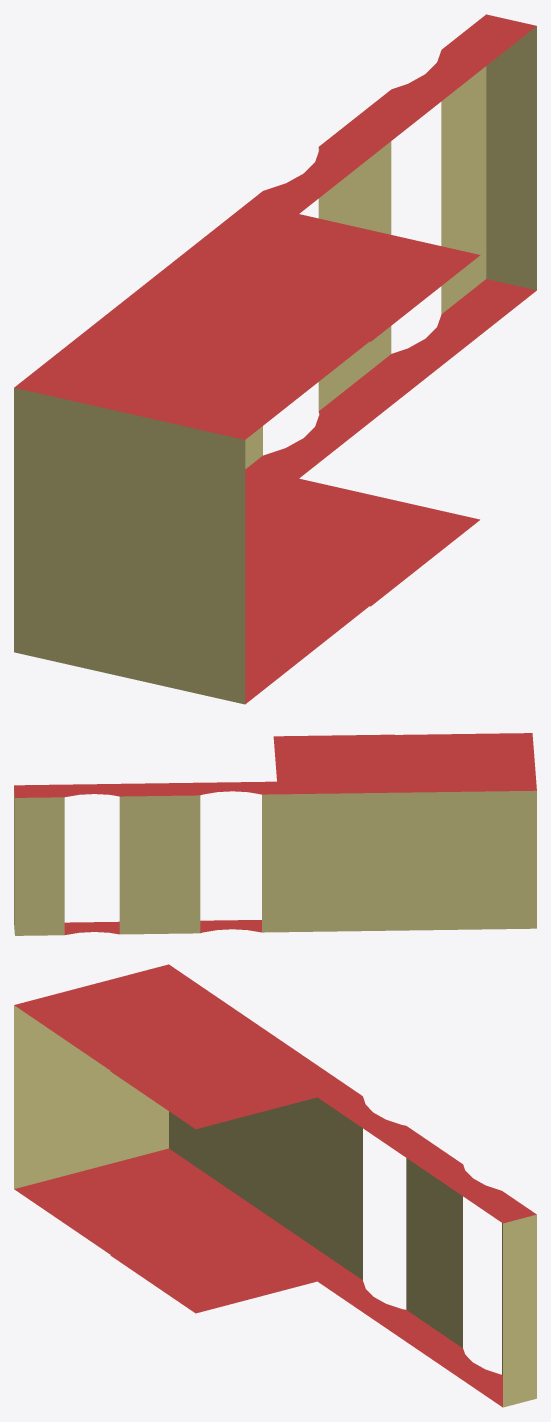
The picture shows the model from 3 angles, top to bottom: view 1: azimuth 30°, elevation 25°; view 2: azimuth 150°, elevation 25°; view 3: azimuth 270°, elevation 25°; orthographic projection. The views are drawn at different scales.
Size of the model in its own units: 27.16 by 23.17 by 9.
